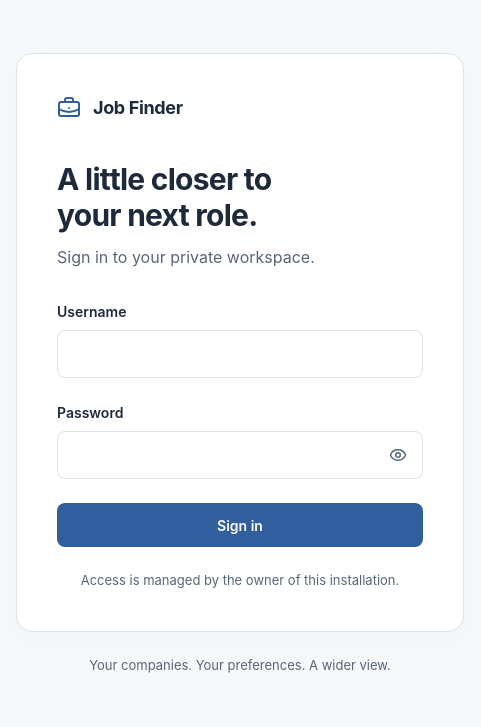
Test: failed login preserves input, exposes an actionable error, and does not reveal password
Type "owner" into the field labelled "Username".
click(240, 354); type("owner")  # box top-left (57, 330), bottom-right (423, 378)
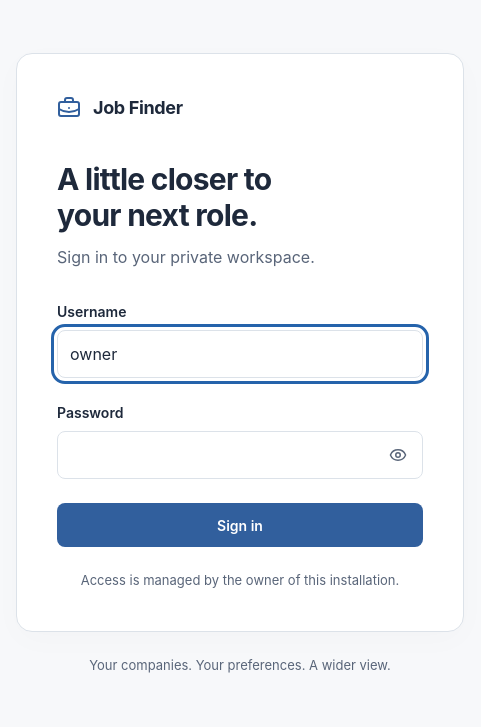
Type "wrong-password" into the password field labelled "Password".
click(240, 455); type("wrong-password")  # box top-left (57, 431), bottom-right (423, 479)
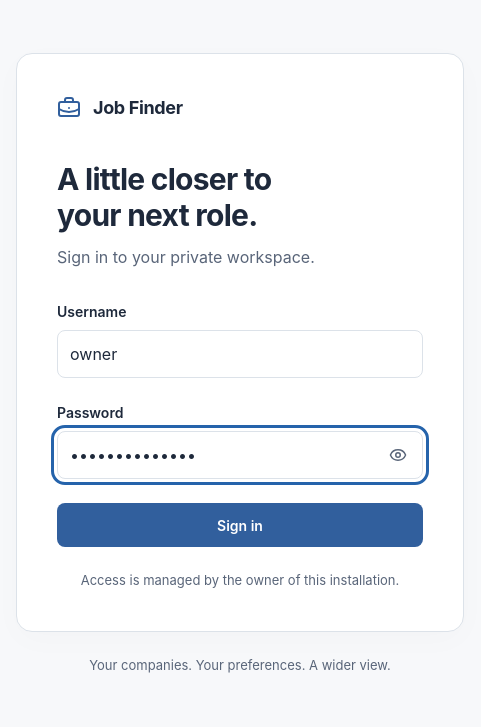
Click the button "Sign in".
click(240, 525)  # box top-left (57, 503), bottom-right (423, 547)
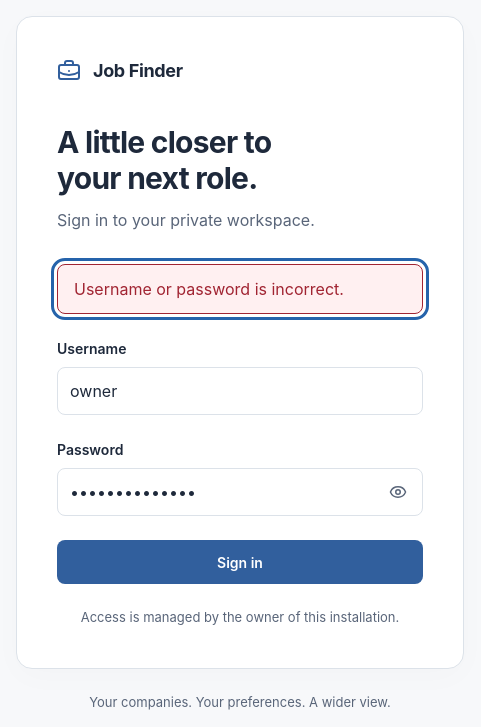
Check: the message does not show "wrong-password", box top-left (57, 264), bottom-right (423, 314)
Check: the message reads "Username or password is incorrect.", box top-left (74, 279), bottom-right (344, 299)
